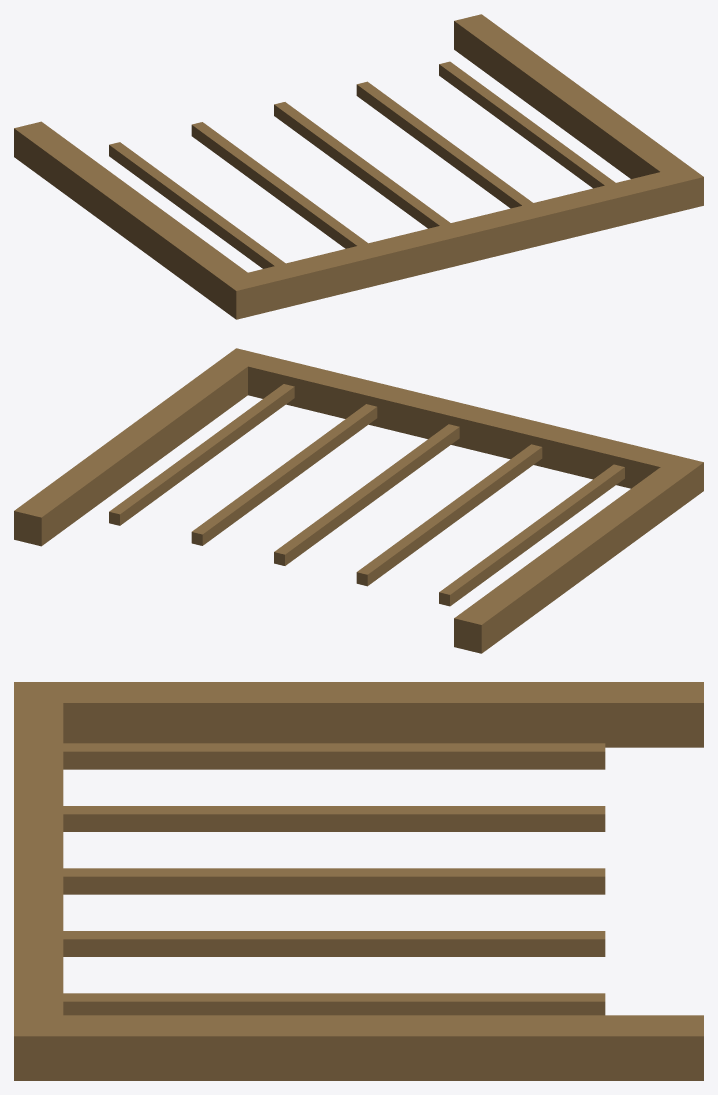
File: SM_AnduinFishingFrame.obj
3 renders of one model, top to bottom at view 1: azimuth 30°, elevation 25°; view 2: azimuth 150°, elevation 25°; view 3: azimuth 270°, elevation 25°, orthographic. The views are drawn at different scales.
Parts seen in each view (by area): view 1: SM_AnduinFishingFrame; view 2: SM_AnduinFishingFrame; view 3: SM_AnduinFishingFrame.
Boxes of the visible parts, bbox=[...] form: SM_AnduinFishingFrame: bbox=[14, 14, 703, 319]; SM_AnduinFishingFrame: bbox=[14, 348, 703, 653]; SM_AnduinFishingFrame: bbox=[14, 682, 703, 1080].
Size of the model in its own units: 170 by 10 by 140.
